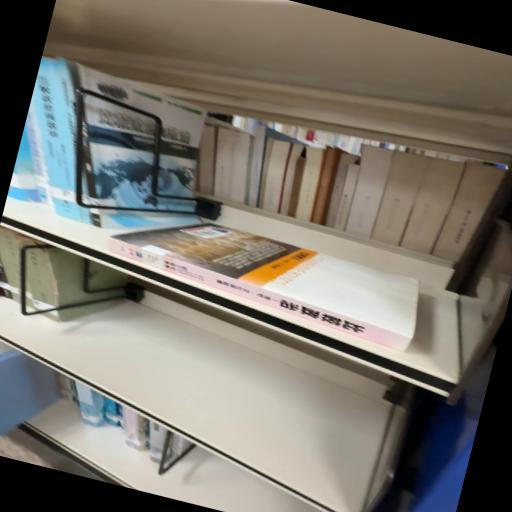flat: (110, 225, 420, 353)
